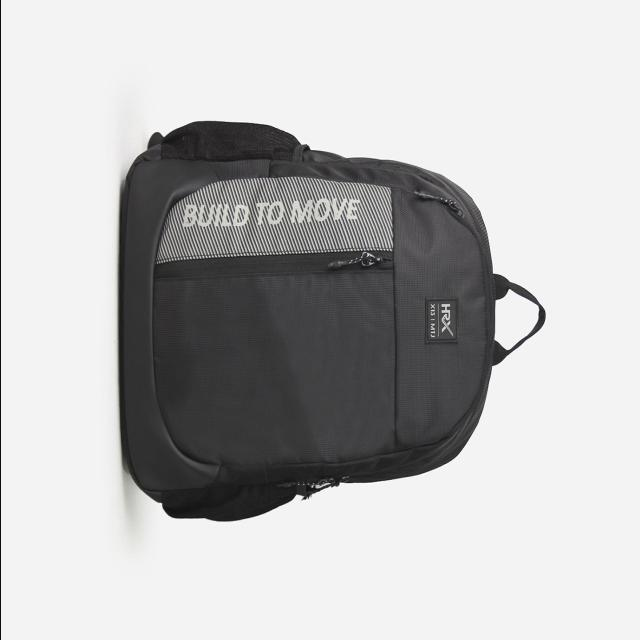backpack: (119, 121, 547, 523)
